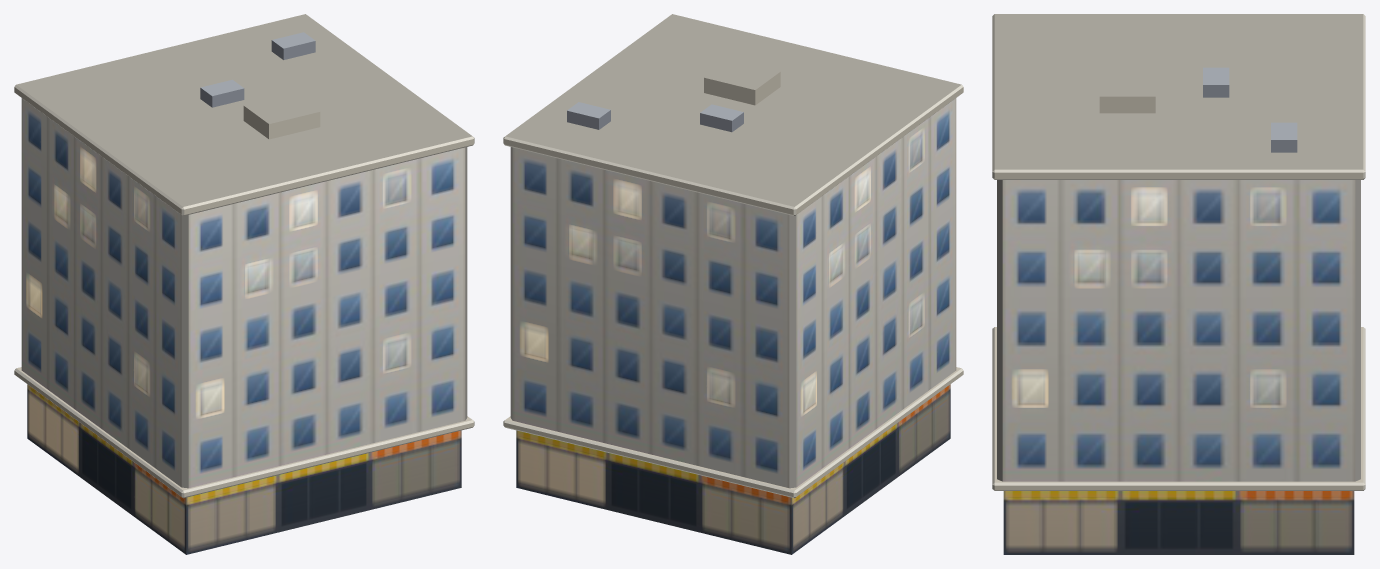
Rendered from building-20x20x24.glb.
3 views of the same model, side by side, from view 1: azimuth 30°, elevation 25°; view 2: azimuth 150°, elevation 25°; view 3: azimuth 270°, elevation 25° (orthographic). The views are drawn at different scales.
Visible parts, largest first — view 1: building-20x20x24; view 2: building-20x20x24; view 3: building-20x20x24.
Part boxes in pixels (x1,y1,x2,y2): building-20x20x24: [14, 14, 474, 554]; building-20x20x24: [503, 14, 963, 554]; building-20x20x24: [992, 14, 1365, 554].
Bounding box in the file's own units: 20 × 24 × 20.
1 material, 1 textured.
